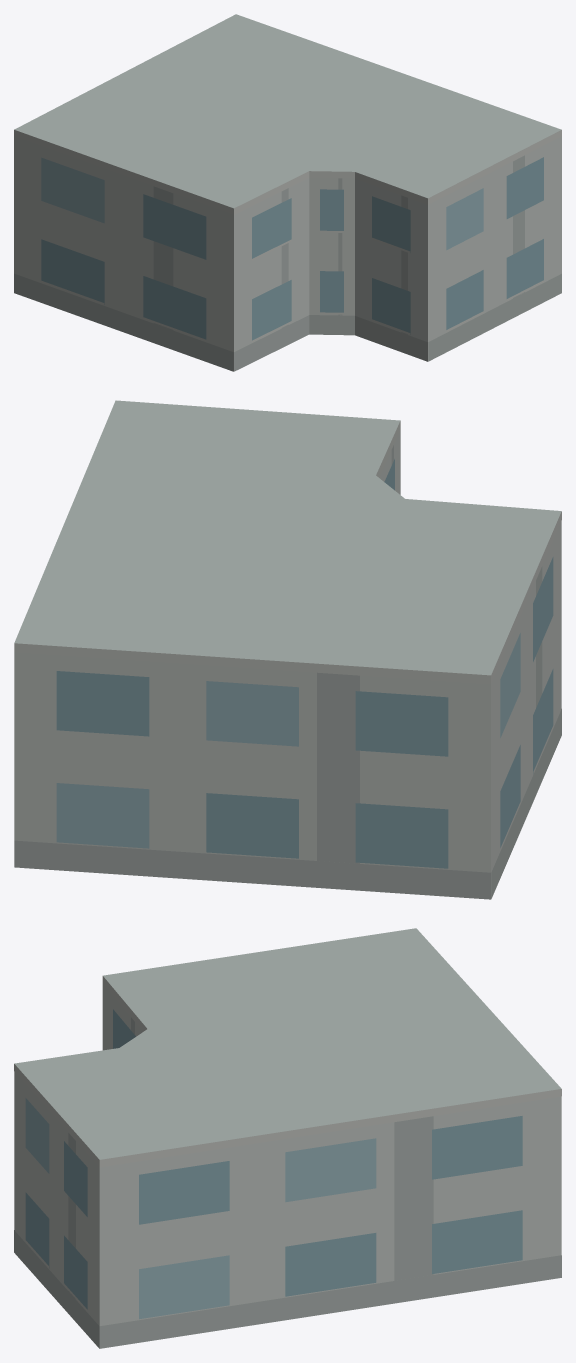
The model's file is residential-927eb1fa-e7fa-44c3-8705-87dac872d254.glb.
3 views of the same model, one above another, from view 1: azimuth 30°, elevation 25°; view 2: azimuth 150°, elevation 25°; view 3: azimuth 270°, elevation 25° (orthographic). The views are drawn at different scales.
Visible parts, largest first — view 1: residential-927eb1fa-e7fa-44c3-8705-87dac872d254.tmp; view 2: residential-927eb1fa-e7fa-44c3-8705-87dac872d254.tmp; view 3: residential-927eb1fa-e7fa-44c3-8705-87dac872d254.tmp.
Boxes of the visible parts, x1,y1,x2,y2 form: residential-927eb1fa-e7fa-44c3-8705-87dac872d254.tmp: (14, 14, 561, 371); residential-927eb1fa-e7fa-44c3-8705-87dac872d254.tmp: (14, 400, 561, 899); residential-927eb1fa-e7fa-44c3-8705-87dac872d254.tmp: (14, 928, 561, 1348).
Bounding box in the file's own units: 15.8 × 6 × 15.77.
